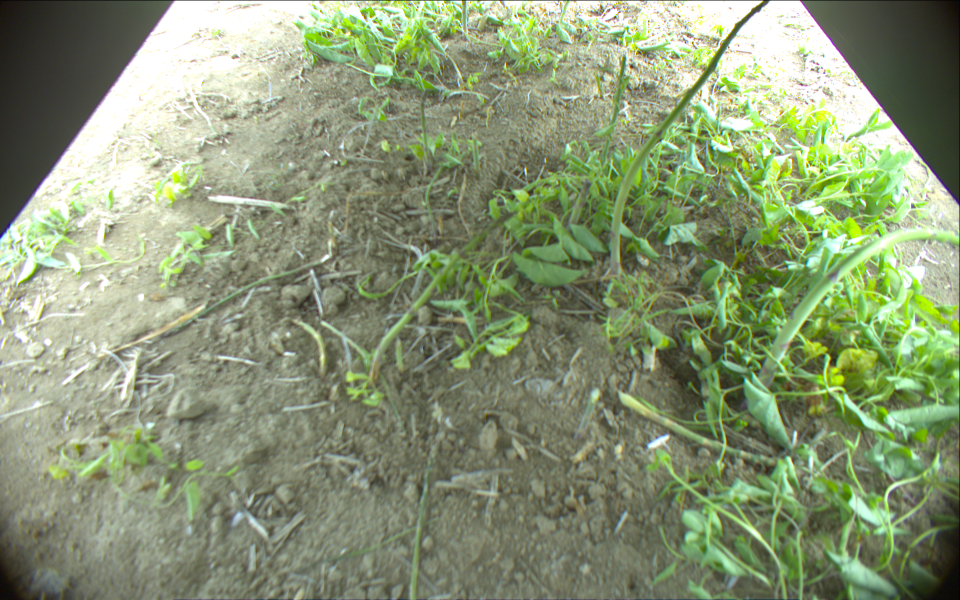aspa: (610, 1, 770, 274), (755, 227, 960, 390), (371, 221, 501, 384), (620, 389, 796, 470), (596, 53, 629, 168), (564, 177, 593, 233), (422, 89, 434, 172), (471, 133, 480, 180), (461, 1, 467, 36)
